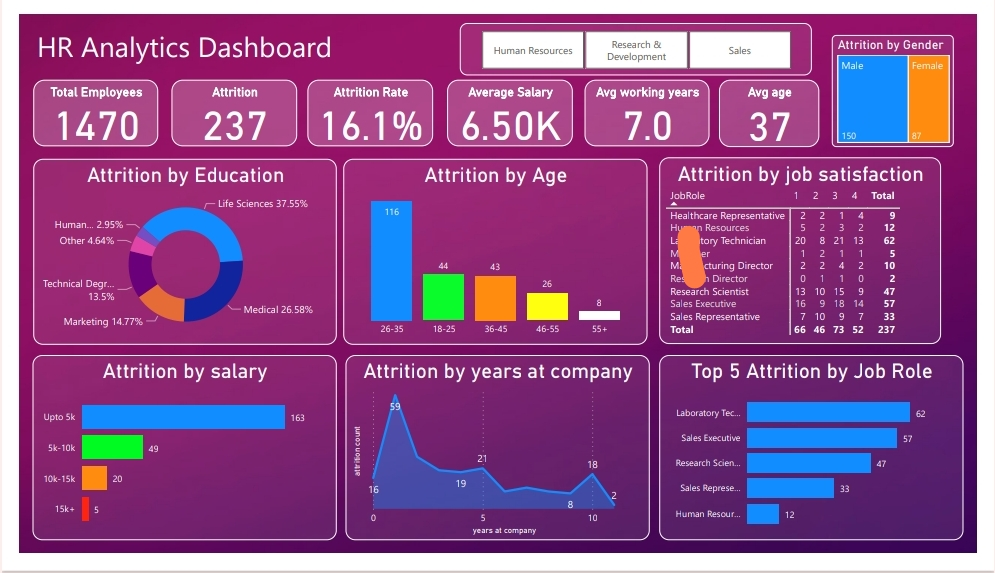

Layout of this report page (visuals, bound fields, positions):
{"tool":"powerbi","page":{"name":"Page 1","canvas":[1280,720],"ordinal":0},"visuals":[{"type":"card","title":"Total Employees","fields":{"Values":["Count(HR_Analytics.EmpID)"]},"box":[17.8,87.4,167.6,89.1],"z":0},{"type":"textbox","box":[18.5,11.8,458.6,62.2],"z":1000},{"type":"card","title":"Avg working years","fields":{"Values":["Avg(HR_Analytics.YearsAtCompany)"]},"box":[755.9,87.4,167.6,89.1],"z":2000},{"type":"card","title":"Average Salary","fields":{"Values":["Avg(HR_Analytics.MonthlyIncome)"]},"box":[572.3,87.4,167.6,89.1],"z":3000},{"type":"card","title":"Attrition Rate","fields":{"Values":["HR_Analytics.Attritionrate"]},"box":[385.1,87.4,167.6,89.1],"z":4000},{"type":"card","title":"Attrition","fields":{"Values":["Sum(HR_Analytics.attritioncount)"]},"box":[203.2,87.4,167.6,89.1],"z":5000},{"type":"card","title":"Avg age","fields":{"Values":["Avg(HR_Analytics.Age)"]},"box":[935.7,87.1,134.3,90],"z":6000},{"type":"donutChart","title":"Attrition  by Education","fields":{"Y":["Sum(HR_Analytics.attritioncount)"],"Category":["HR_Analytics.EducationField"]},"box":[17.8,192.5,406.5,249.6],"z":7000},{"type":"pivotTable","title":"Attrition  by job satisfaction","fields":{"Rows":["HR_Analytics.JobRole"],"Columns":["HR_Analytics.JobSatisfaction"],"Values":["Sum(HR_Analytics.attritioncount)"]},"box":[855.7,192.9,377.1,250],"z":8000},{"type":"columnChart","title":"Attrition  by Education","fields":{"Y":["Sum(HR_Analytics.attritioncount)"],"Category":["HR_Analytics.AgeGroup"]},"box":[433.2,192.5,406.5,249.6],"z":9000},{"type":"barChart","title":"Attrition  by salary","fields":{"Category":["HR_Analytics.SalarySlab"],"Y":["Sum(HR_Analytics.attritioncount)"]},"box":[17.1,455.7,407.1,248.6],"z":10000},{"type":"areaChart","title":"Attrition  by Education","fields":{"Category":["HR_Analytics.YearsAtCompany"],"Y":["Sum(HR_Analytics.attritioncount)"]},"box":[435.7,455.7,407.1,248.6],"z":11000},{"type":"barChart","title":"Attrition  by Job Role","fields":{"Y":["Sum(HR_Analytics.attritioncount)"],"Category":["HR_Analytics.JobRole"]},"box":[855.7,455.7,407.1,248.6],"z":12000},{"type":"treemap","title":" Attrition by Gender","fields":{"Values":["Sum(HR_Analytics.attritioncount)"],"Group":["HR_Analytics.Gender"]},"box":[1087.1,27.1,162.9,150],"z":13000},{"type":"slicer","fields":{"Values":["HR_Analytics.Department"]},"box":[588.6,11.4,471.4,70],"z":14000}]}

Visuals, with their boxes in screenshot pixels (x1, y1, x2, y2), scaled from the page's 1280x720 canvas onto the 995x573 screenshot:
"Total Employees" card: rect(14, 70, 144, 140)
textbox: rect(14, 9, 371, 59)
"Avg working years" card: rect(588, 70, 718, 140)
"Average Salary" card: rect(445, 70, 575, 140)
"Attrition Rate" card: rect(299, 70, 430, 140)
"Attrition" card: rect(158, 70, 288, 140)
"Avg age" card: rect(727, 69, 832, 141)
"Attrition  by Education" donutChart: rect(14, 153, 330, 352)
"Attrition  by job satisfaction" pivotTable: rect(665, 154, 958, 352)
"Attrition  by Education" columnChart: rect(337, 153, 653, 352)
"Attrition  by salary" barChart: rect(13, 363, 330, 561)
"Attrition  by Education" areaChart: rect(339, 363, 655, 561)
"Attrition  by Job Role" barChart: rect(665, 363, 982, 561)
" Attrition by Gender" treemap: rect(845, 22, 972, 141)
slicer - HR_Analytics.Department: rect(458, 9, 824, 65)
